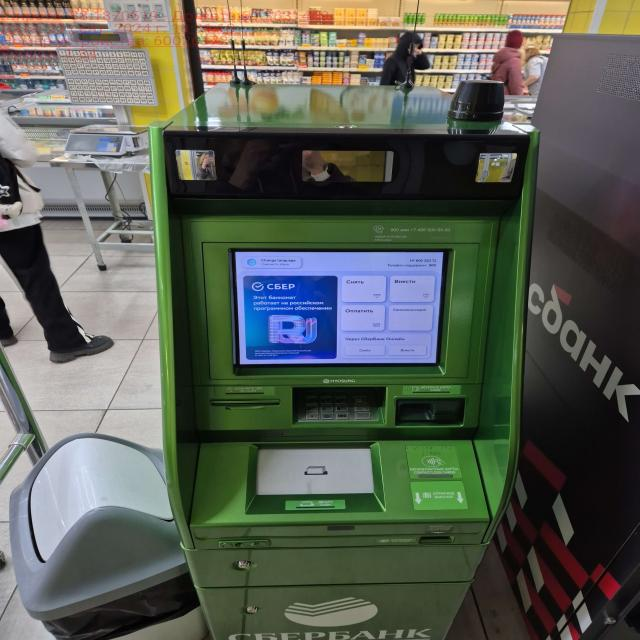bank: (148, 81, 539, 640)
